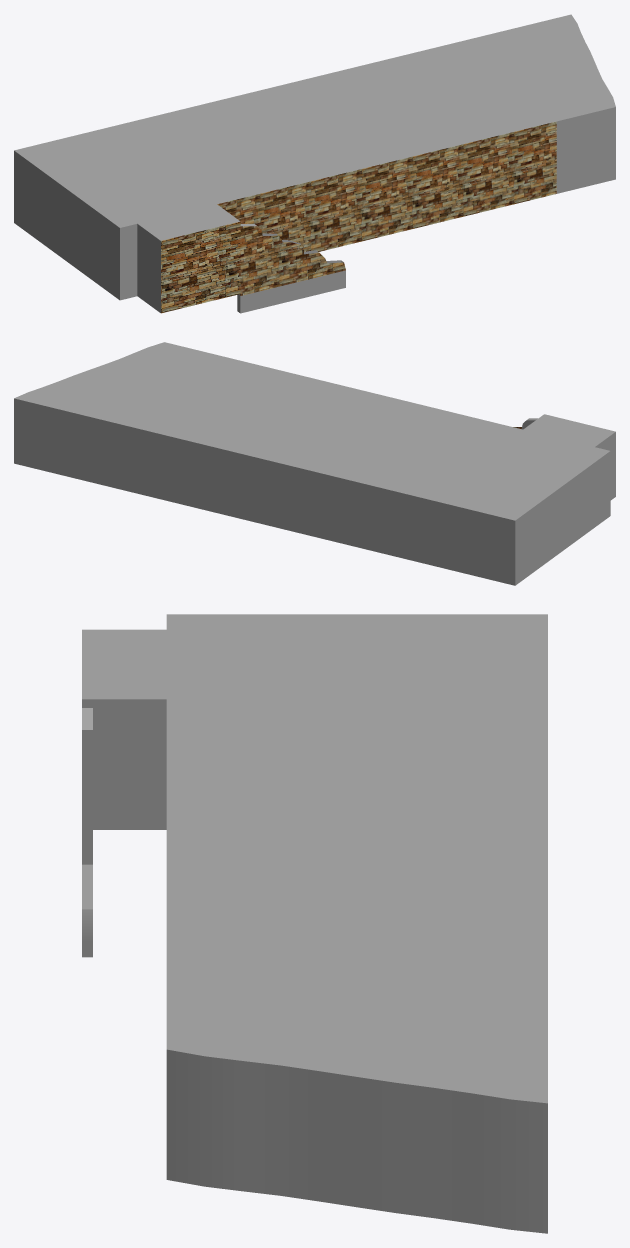
File: testy1.fbx
The picture shows the model from 3 angles, top to bottom: view 1: azimuth 30°, elevation 25°; view 2: azimuth 150°, elevation 25°; view 3: azimuth 270°, elevation 25°; orthographic projection. The views are drawn at different scales.
Parts seen in each view (by area): view 1: pasted__pCube8, pCube8, pCube14; view 2: pasted__pCube8, pCube8; view 3: pasted__pCube8, pCube8, pCube14.
Boxes of the visible parts, x1,y1,x2,y2 form: pasted__pCube8: [14, 14, 615, 300]; pCube8: [137, 204, 240, 313]; pCube14: [237, 224, 345, 313]; pasted__pCube8: [14, 342, 610, 585]; pCube8: [523, 414, 615, 500]; pasted__pCube8: [166, 614, 547, 1233]; pCube8: [82, 629, 169, 829]; pCube14: [82, 708, 92, 957].
Size of the model in its own units: 35.15 by 5.54 by 14.15.
